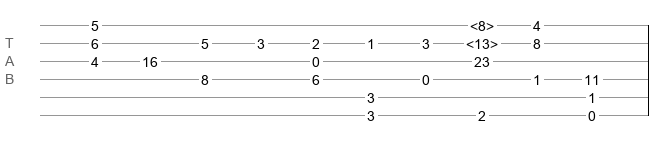0: (312, 54, 320, 64), (422, 72, 430, 82), (588, 108, 596, 118)
1: (367, 36, 375, 46), (533, 72, 541, 82), (588, 90, 596, 100)
11: (584, 72, 600, 82)
16: (142, 54, 158, 64)
2: (312, 36, 320, 46), (478, 108, 486, 118)
23: (474, 54, 490, 64)
3: (257, 36, 265, 46), (367, 108, 375, 118), (367, 90, 375, 100), (422, 36, 430, 46)
4: (91, 54, 99, 64), (533, 18, 541, 28)
5: (91, 18, 99, 28), (201, 36, 209, 46)
6: (91, 36, 99, 46), (312, 72, 320, 82)
8: (201, 72, 209, 82), (533, 36, 541, 46)
harmonic: (466, 36, 498, 46), (470, 18, 494, 28)
